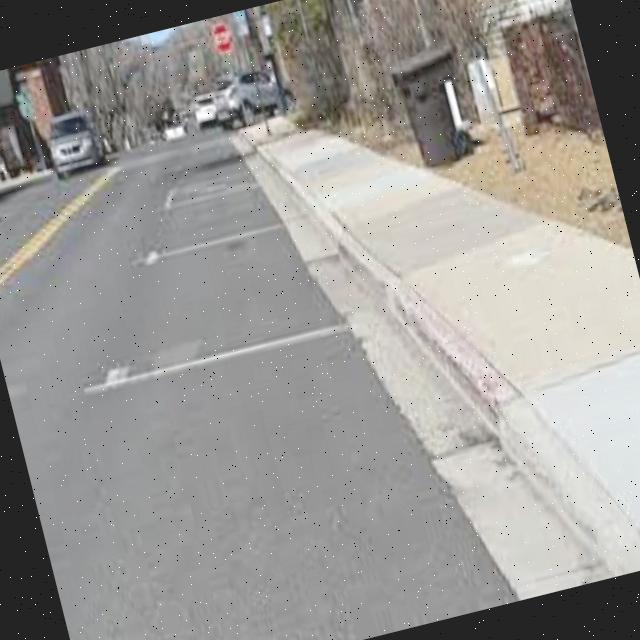curb: (451, 380, 640, 607), (348, 272, 508, 476), (315, 214, 411, 306), (263, 155, 339, 239)
